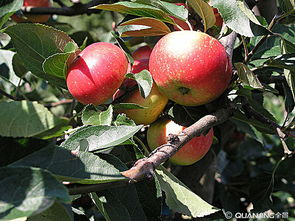apple: (149, 31, 232, 109), (66, 42, 129, 106)
obscured(2)_apple: (147, 117, 223, 167)
